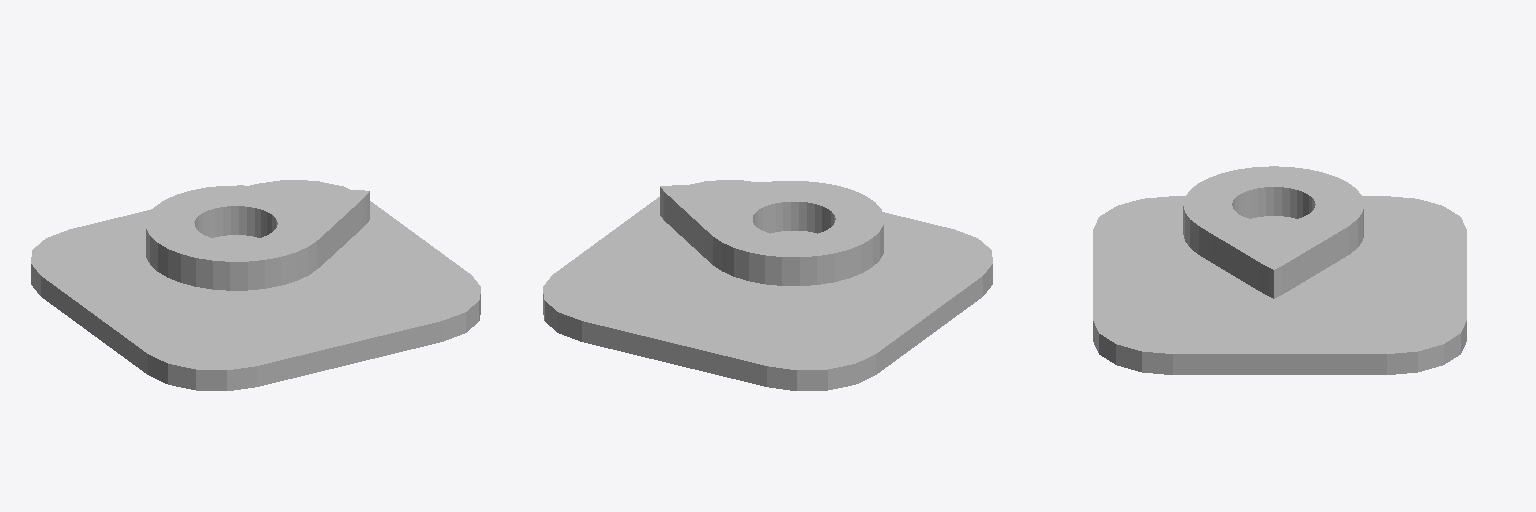
Rendered from MapIcon.obj.
3 renders of one model, left to right at view 1: azimuth 30°, elevation 25°; view 2: azimuth 150°, elevation 25°; view 3: azimuth 270°, elevation 25°, orthographic.
Visible parts, largest first — view 1: BGCube_Cube.001, MapIcon_Cylinder; view 2: BGCube_Cube.001, MapIcon_Cylinder; view 3: BGCube_Cube.001, MapIcon_Cylinder.
Boxes of the visible parts, x1,y1,x2,y2 form: BGCube_Cube.001: [31, 180, 480, 390]; MapIcon_Cylinder: [146, 185, 369, 290]; BGCube_Cube.001: [543, 180, 992, 390]; MapIcon_Cylinder: [660, 181, 883, 285]; BGCube_Cube.001: [1093, 196, 1466, 374]; MapIcon_Cylinder: [1183, 166, 1363, 298].
Bounding box in the file's own units: 2 × 0.4747 × 2.